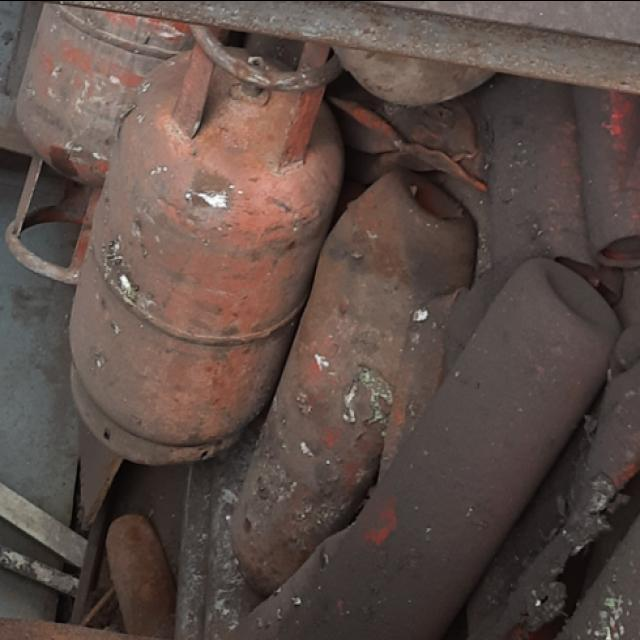cylinder: (65, 22, 347, 464)
